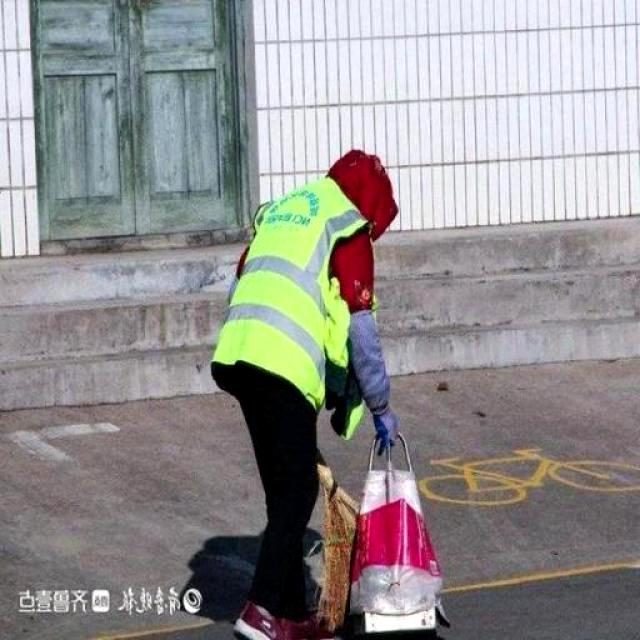no_hard_hat: (328, 150, 398, 240)
person: (212, 150, 402, 639)
